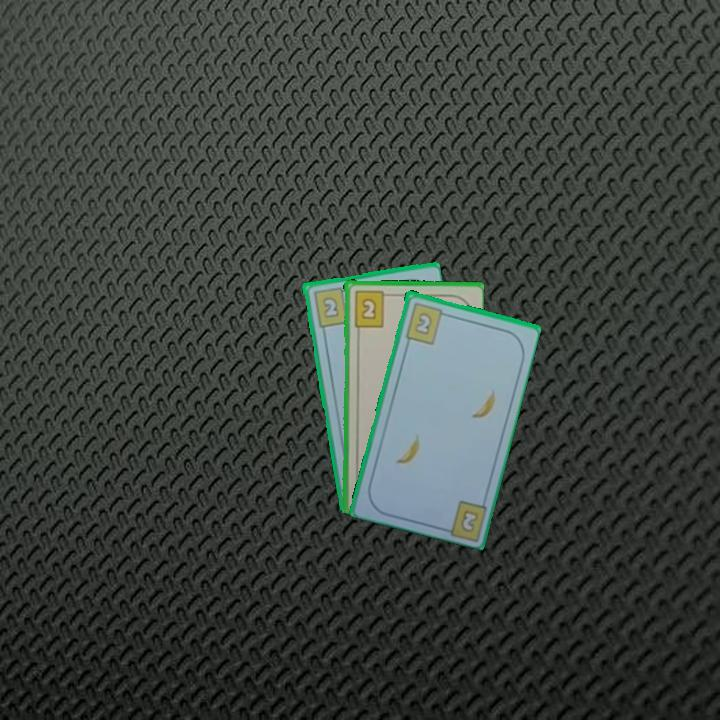2b: (401, 299, 451, 347), (310, 283, 352, 330), (350, 287, 393, 329), (457, 506, 481, 535)
